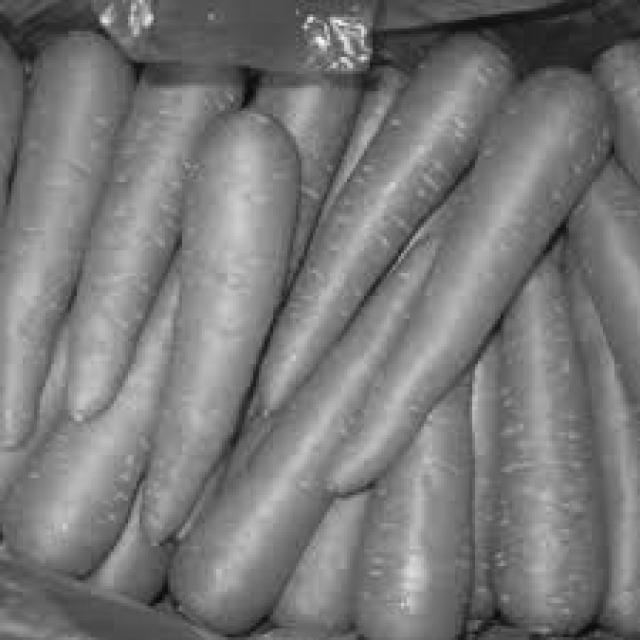Fresh_Carrot: (0, 4, 617, 640)
